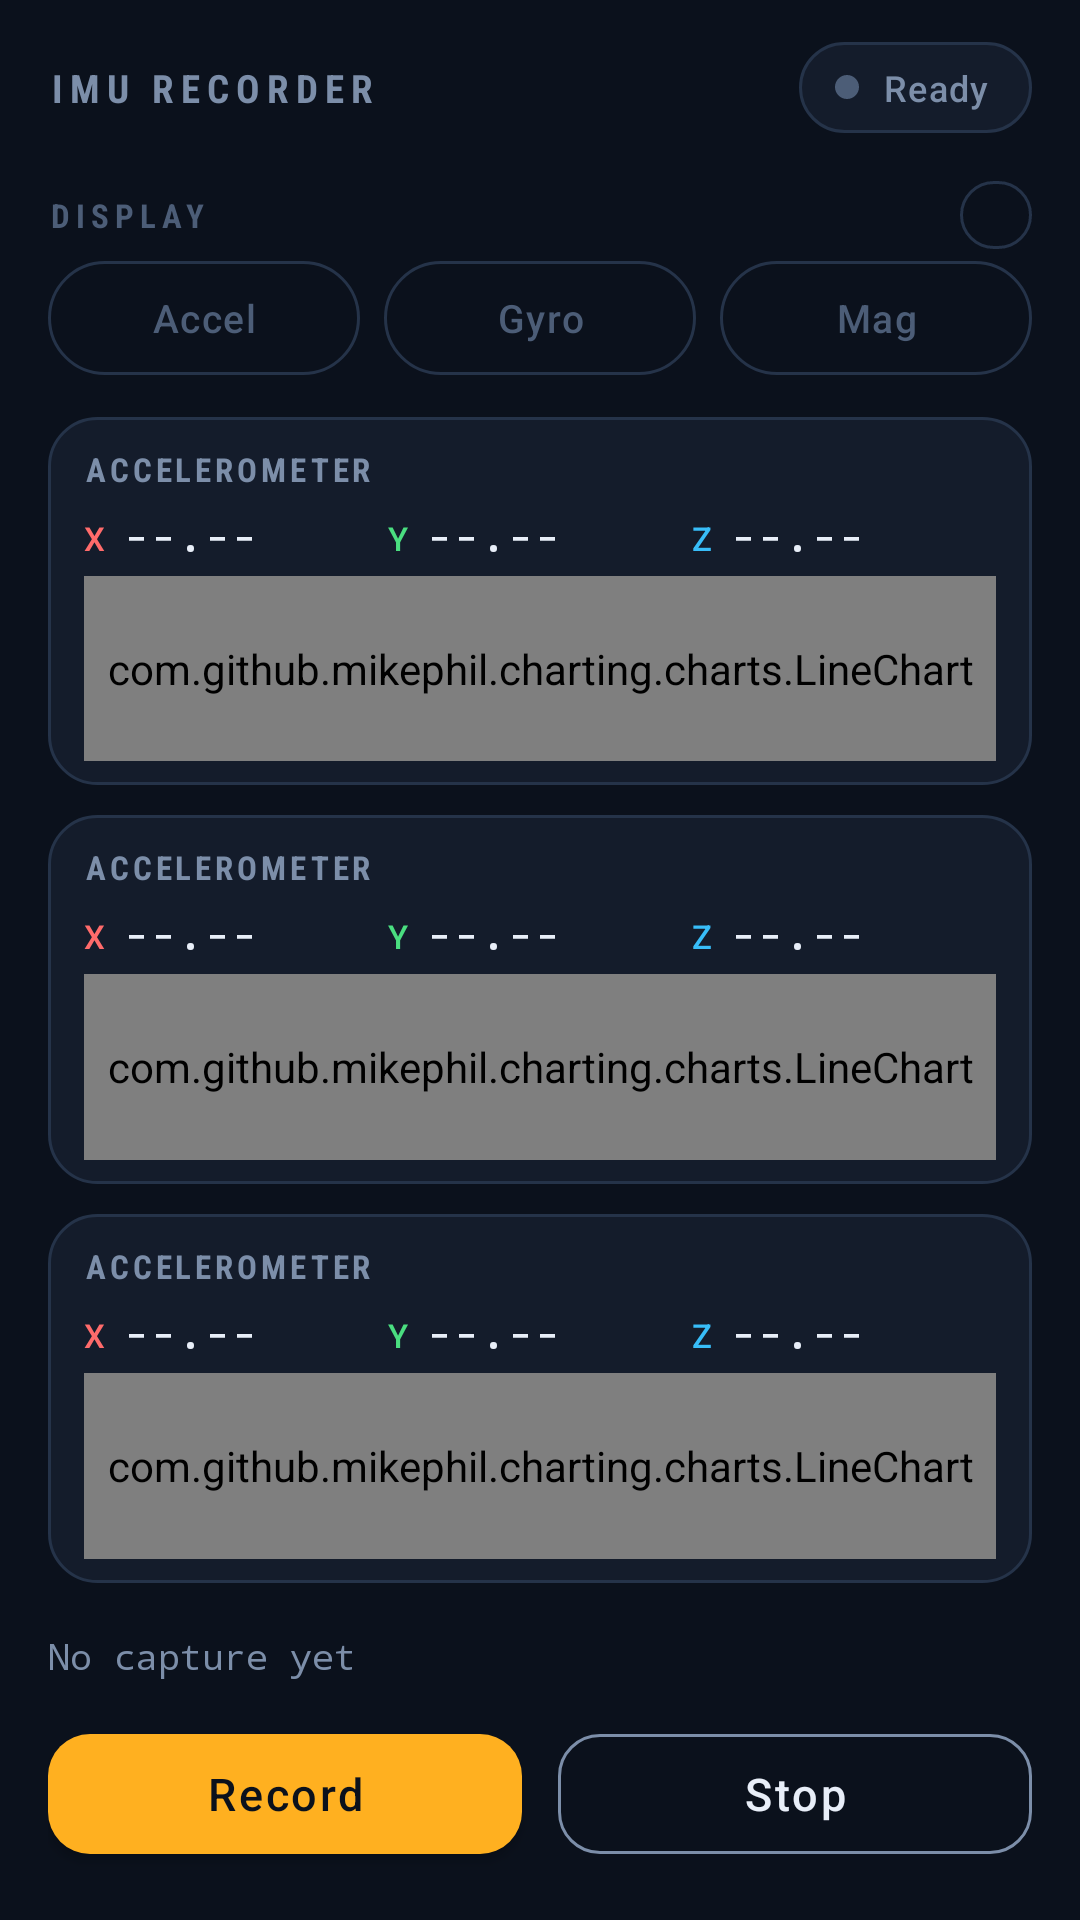

Screen size 1080 x 1920. Icon name, then its center in pixels as (x=x, y=y):
dot: (x=847, y=87)
